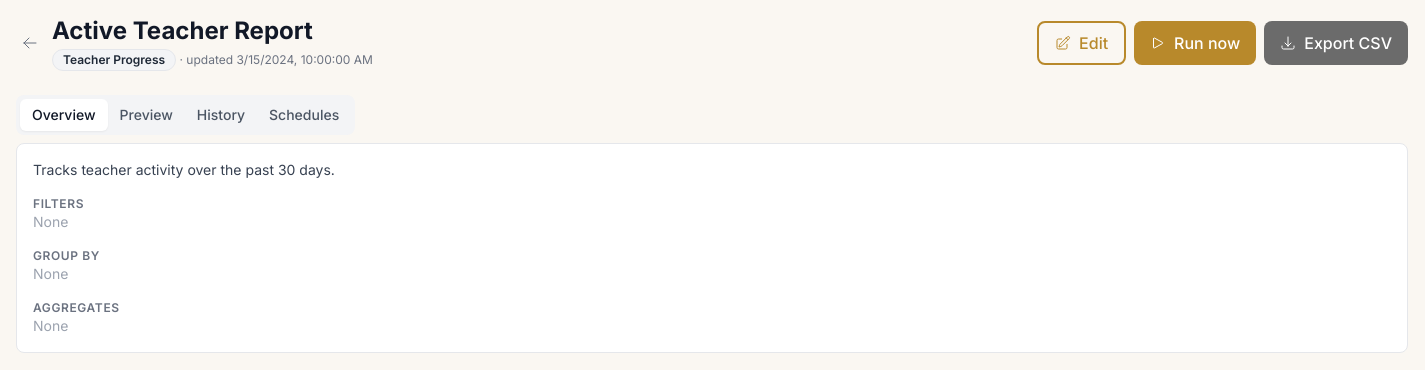
Test case: ReportBuilderDetailPage › Schedules tab: shows "No schedules yet." when empty
Expected: the heading "Active Teacher Report" is shown, [52, 16, 313, 45]
Click the tab "Schedules".
click(304, 115)  # box [257, 99, 351, 131]
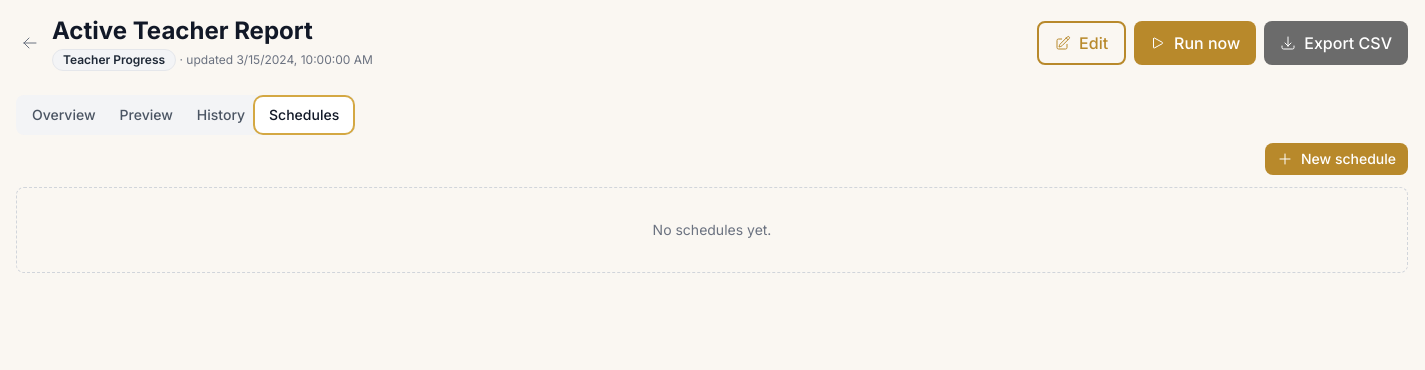
Now the text "No schedules yet." is shown, box [16, 187, 1408, 273]
